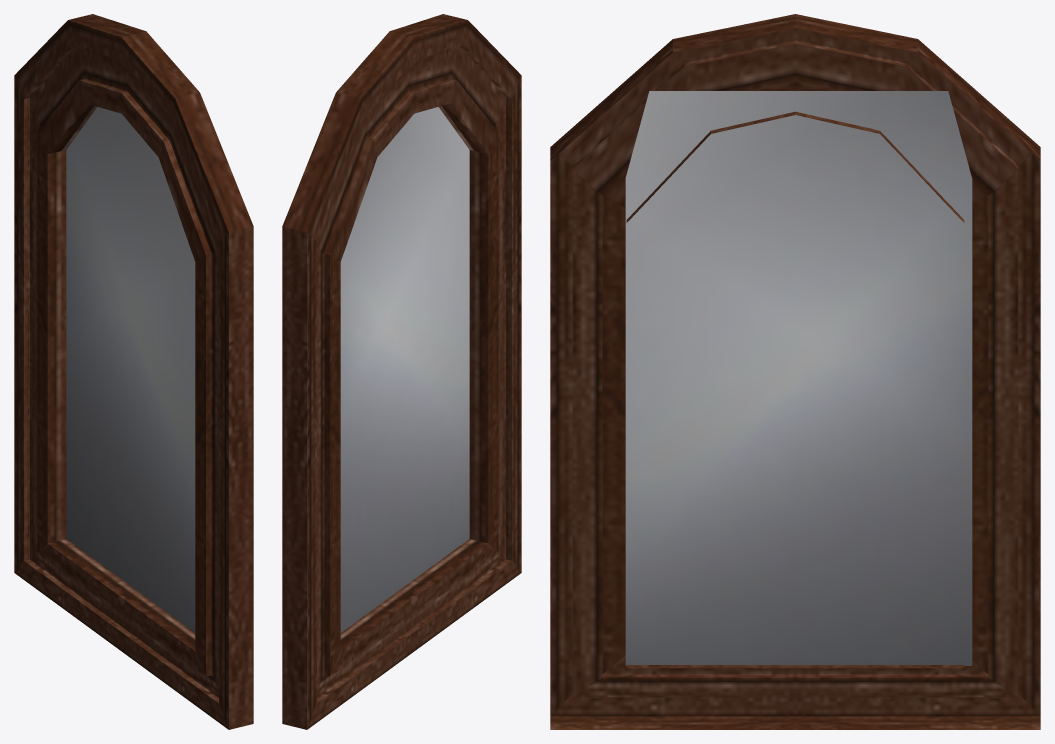
Rendered from Mirror.fbx.
3 renders of one model, left to right at view 1: azimuth 30°, elevation 25°; view 2: azimuth 150°, elevation 25°; view 3: azimuth 270°, elevation 25°, orthographic. The views are drawn at different scales.
Visible parts, largest first — view 1: Cube.046; view 2: Cube.046; view 3: Cube.046.
Part boxes in pixels (box(x1,y1,x2,y2)): Cube.046: box(14, 14, 253, 729); Cube.046: box(282, 14, 521, 729); Cube.046: box(550, 14, 1040, 729).
Bounding box in the file's own units: 11.33 × 268 × 170.
Materials: 2 (2 with a texture image).
